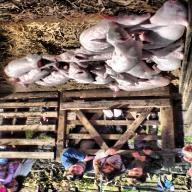boar: (4, 0, 188, 98)
